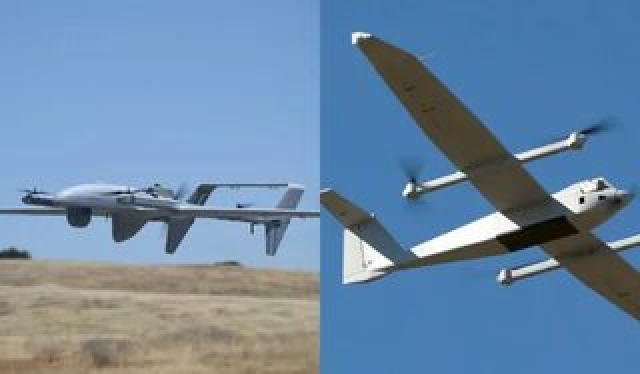military drone: (320, 30, 640, 321), (0, 182, 320, 256)
